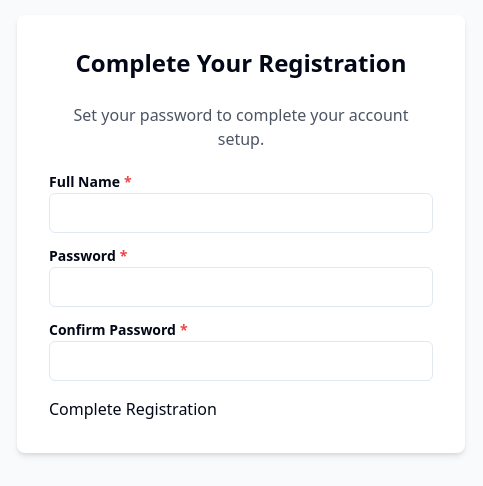
CompleteRegistrationPage › should show error when passwords do not match
Step 1. Type "John Doe" into the field labelled "Full Name*" → (241, 213), box [49,193,433,233]
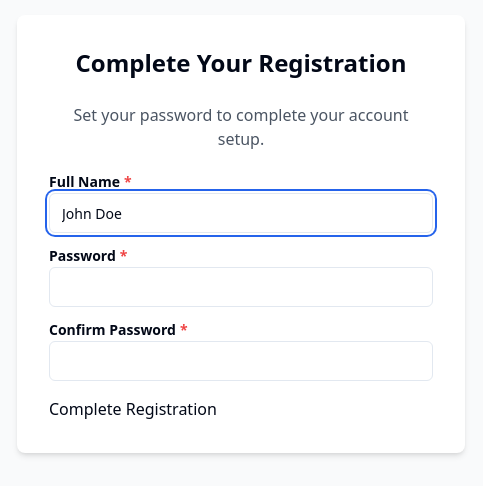
Step 2. Type "Aa1!Aa1!Aa1!" into the password field labelled "Password*" → (241, 287), box [49,267,433,307]
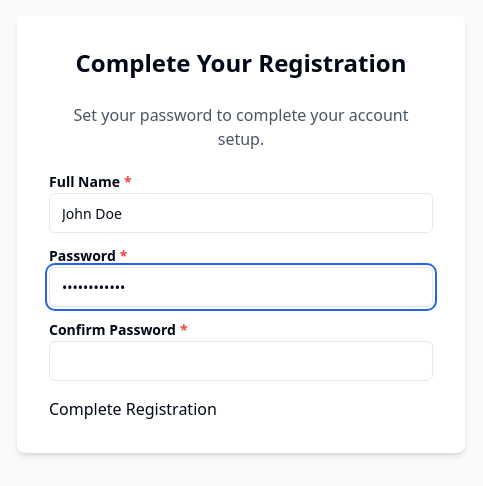
Step 3. Type "DifferentPass123!" into the password field labelled "Confirm Password*" → (241, 361), box [49,341,433,381]
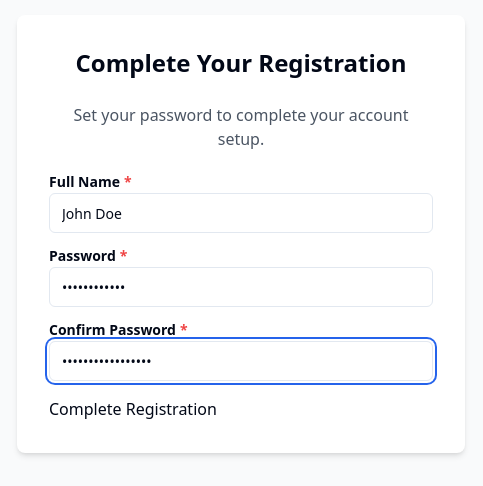
Step 4. Click the button "Complete Registration" → (133, 409), box [49,397,217,421]
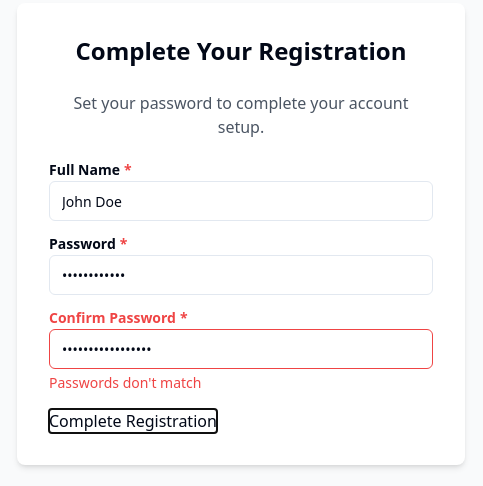
expect the text "Passwords don't match" is shown: met, box [49,373,202,392]
